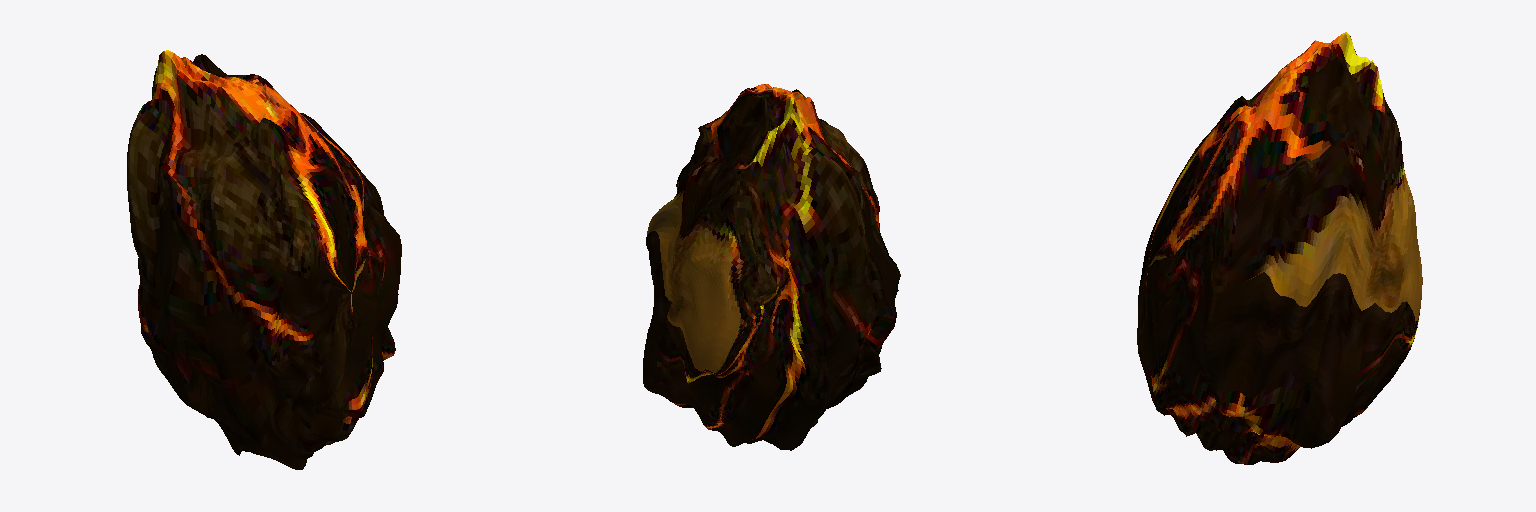
3 views of the same model, side by side, from view 1: azimuth 30°, elevation 25°; view 2: azimuth 150°, elevation 25°; view 3: azimuth 270°, elevation 25° (orthographic).
Visible parts, largest first — view 1: asteroid_OBJ; view 2: asteroid_OBJ; view 3: asteroid_OBJ.
Boxes of the visible parts, x1=… form: asteroid_OBJ: x1=127, y1=50, x2=401, y2=469; asteroid_OBJ: x1=643, y1=84, x2=900, y2=450; asteroid_OBJ: x1=1137, y1=32, x2=1422, y2=464.
Bounding box in the file's own units: 23.04 × 37.05 × 24.51.
1 materials, 1 textured.